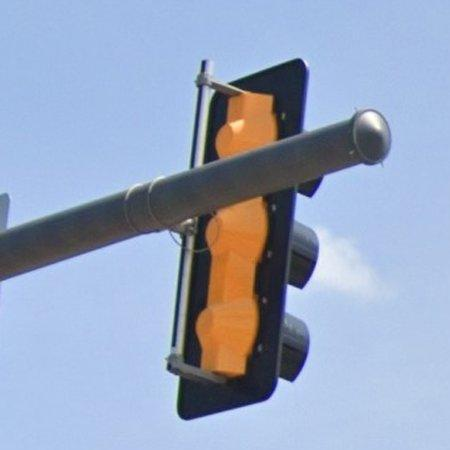traffic lights: (169, 198, 321, 423), (205, 58, 306, 164)
